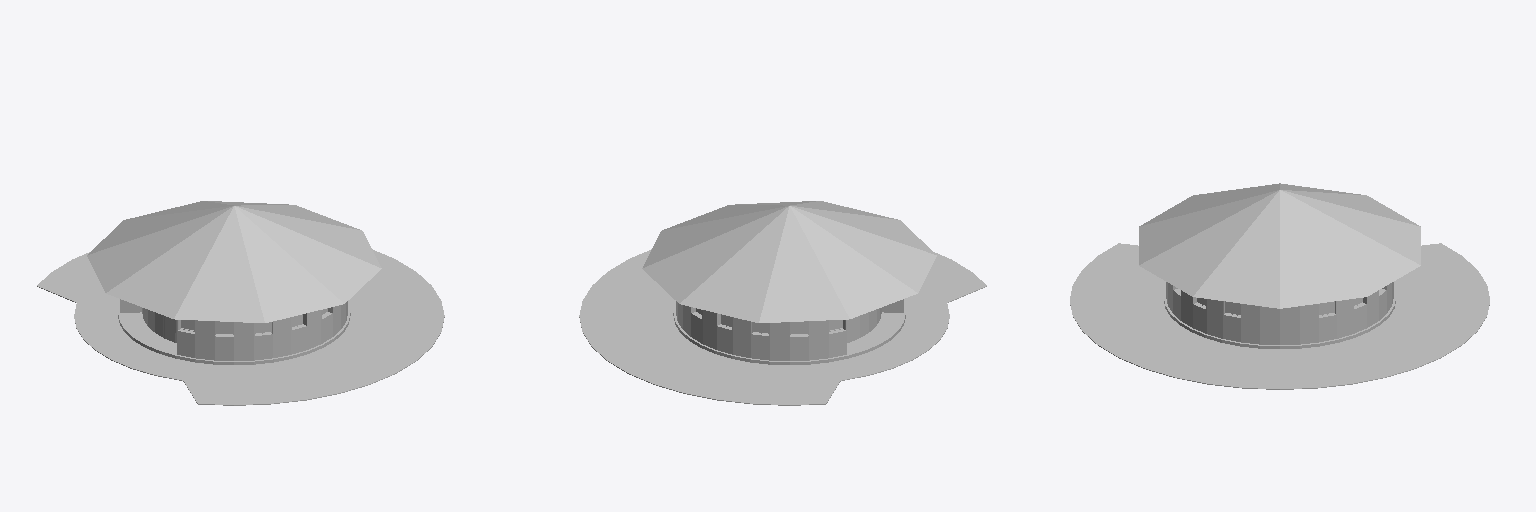
File: laungh.obj
The picture shows the model from 3 angles: view 1: azimuth 30°, elevation 25°; view 2: azimuth 150°, elevation 25°; view 3: azimuth 270°, elevation 25°; orthographic projection.
Visible parts, largest first — view 1: Cone.1; view 2: Cone.1; view 3: Cone.1.
Part boxes in pixels (left/top/right/bottom): Cone.1: left=37, top=201, right=444, bottom=405; Cone.1: left=579, top=201, right=986, bottom=405; Cone.1: left=1070, top=183, right=1489, bottom=389.
Size of the model in its own units: 58.65 by 19.45 by 66.59.